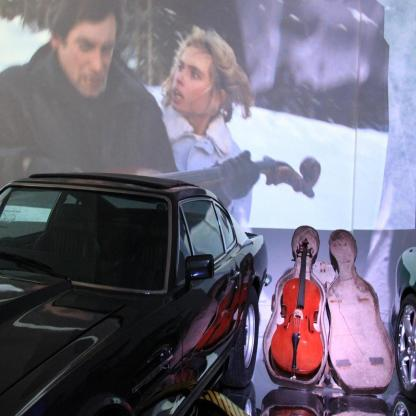Car: (8, 166, 270, 416)
